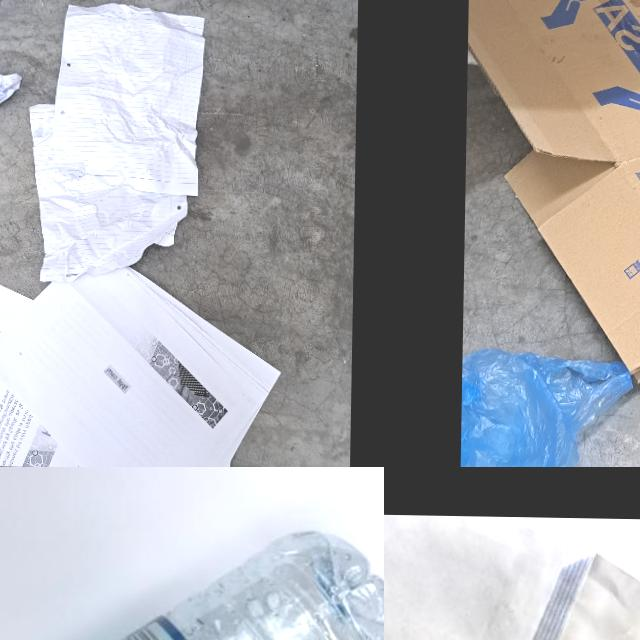garrafa plástica: (0, 516, 384, 640)
papel: (0, 262, 282, 467), (29, 2, 204, 280), (384, 510, 640, 640), (0, 62, 21, 116)
papelão: (461, 0, 640, 390)
sacola plástica: (459, 348, 640, 467)
